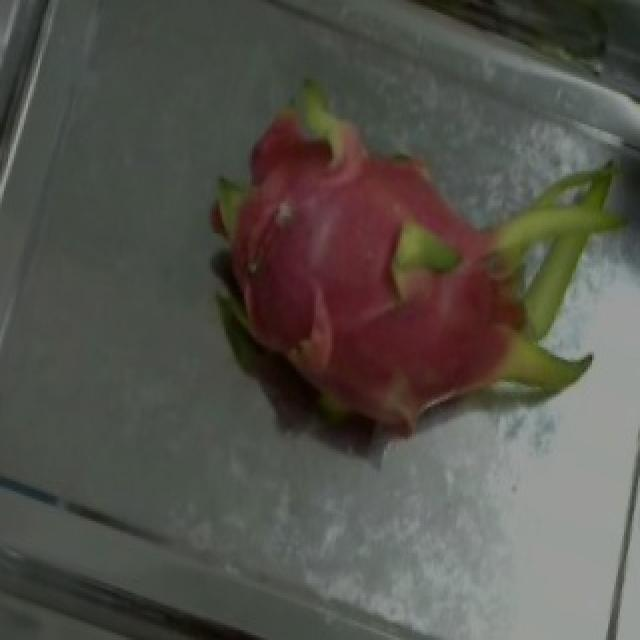fruit: (214, 42, 634, 499)
